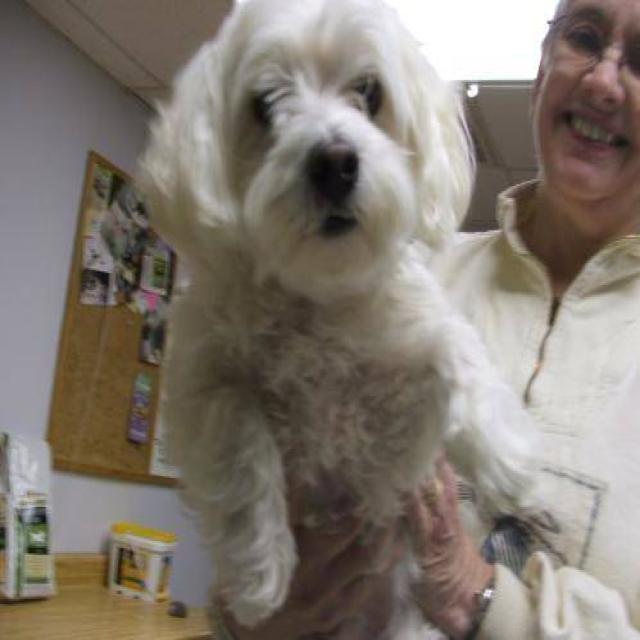dog: (133, 0, 564, 638)
